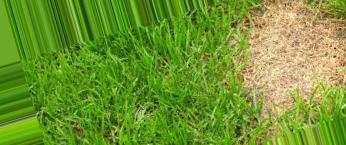patch: (230, 13, 338, 112)
